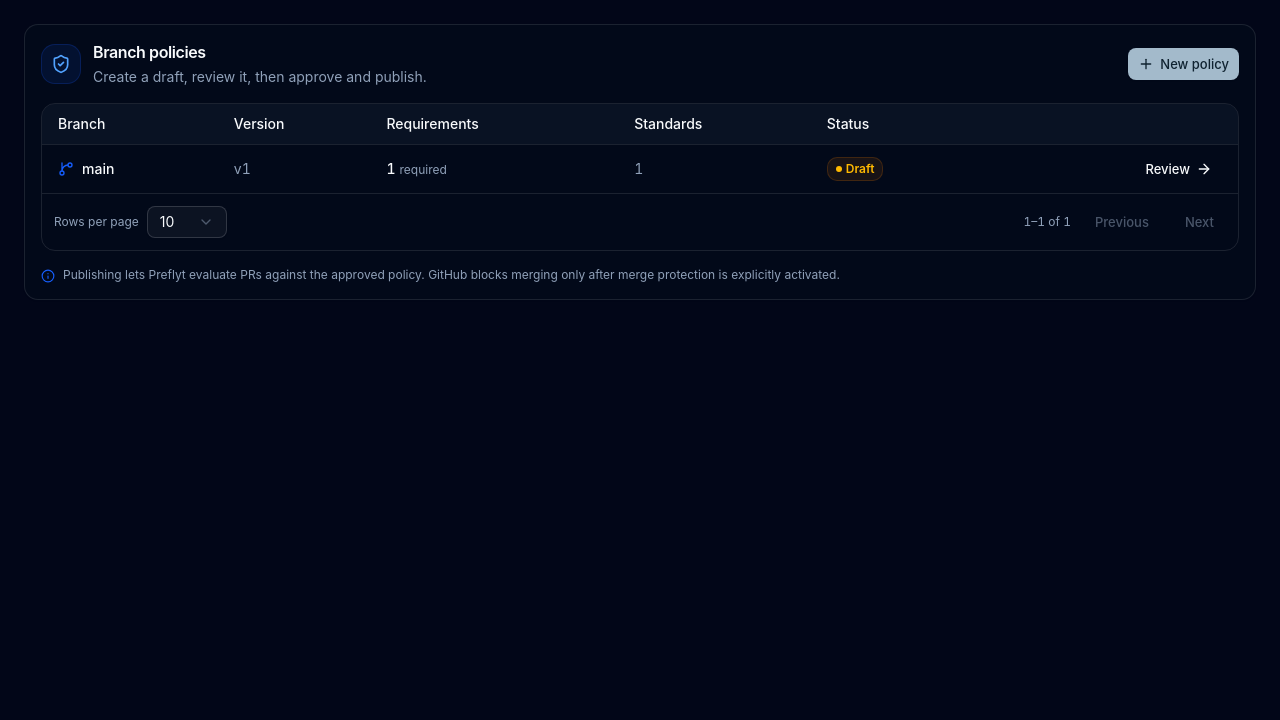
fits the standards picker and create action at 320px in both themes
Click the button "New policy": coordinates (1184, 64) [1128,48,1239,80]
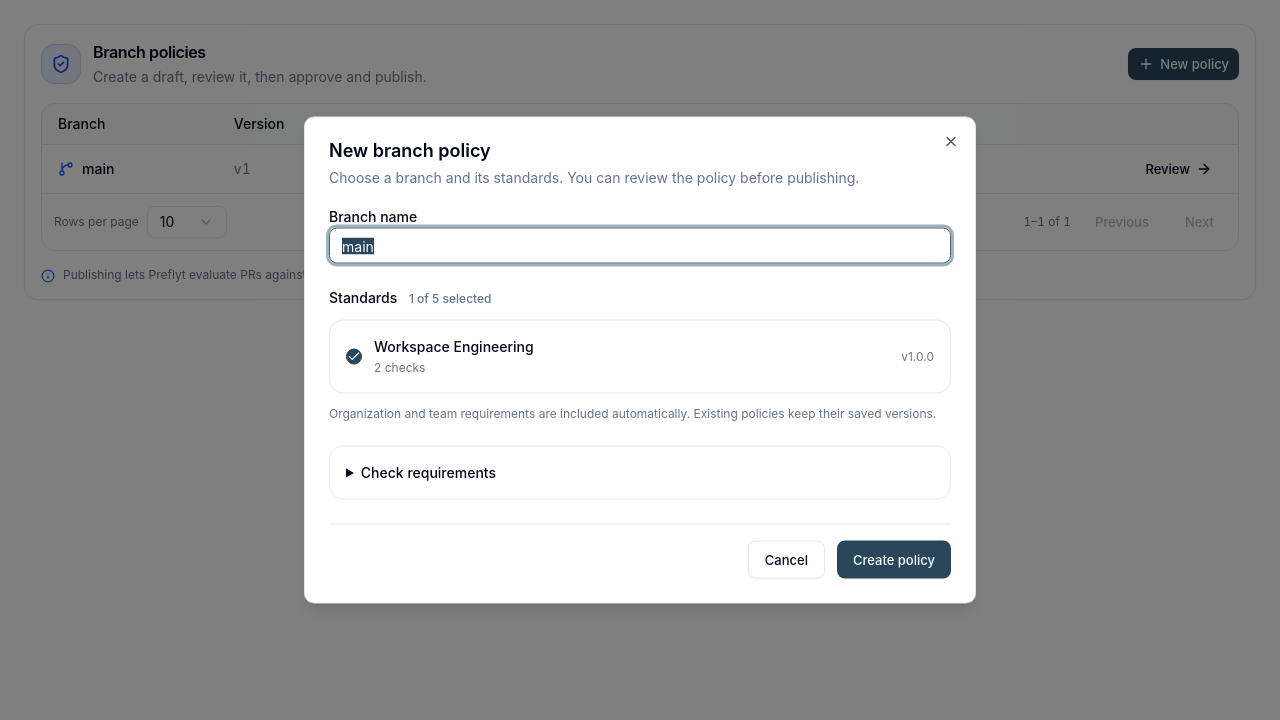
Expected: the button "Create policy" is shown, [837,540,951,578]
